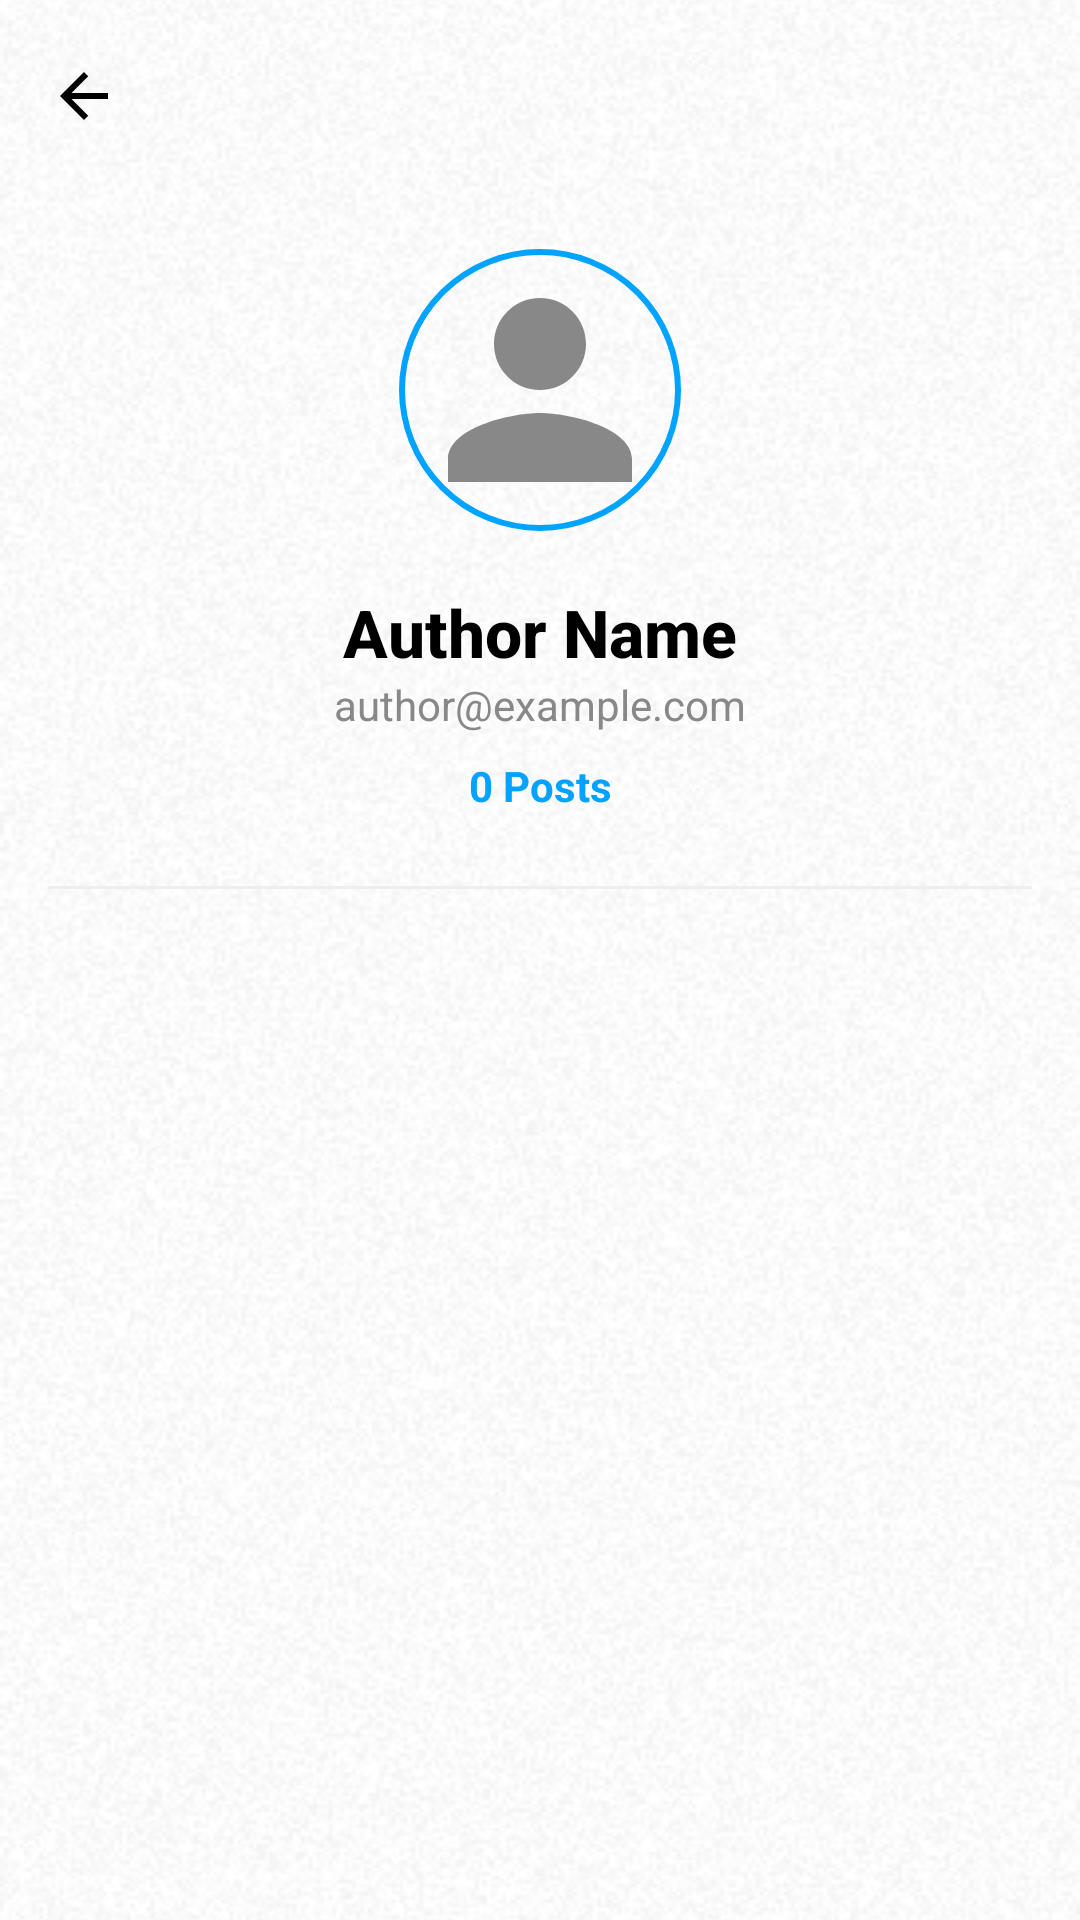

Icon bounding boxes for this 1080 × 1920 phone screenshot, format [x1,y1,x2,y2]:
person: [399,249,681,531]
